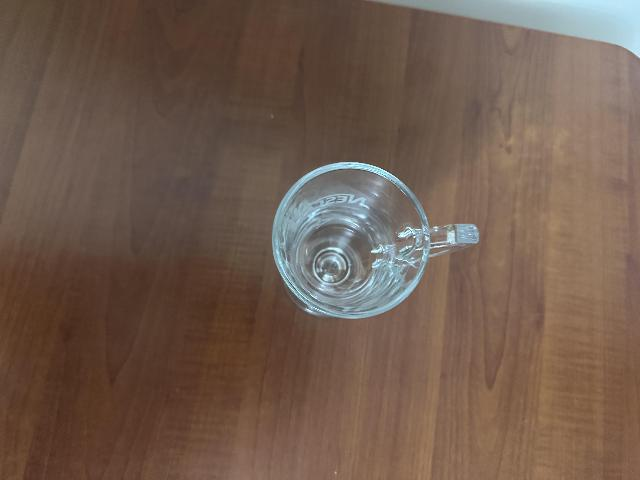Cam: (262, 156, 481, 322)
